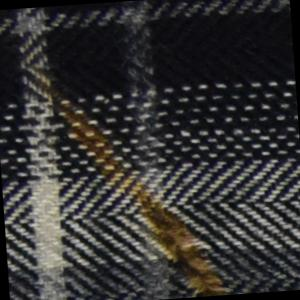Oil Stain: (21, 46, 236, 300)
